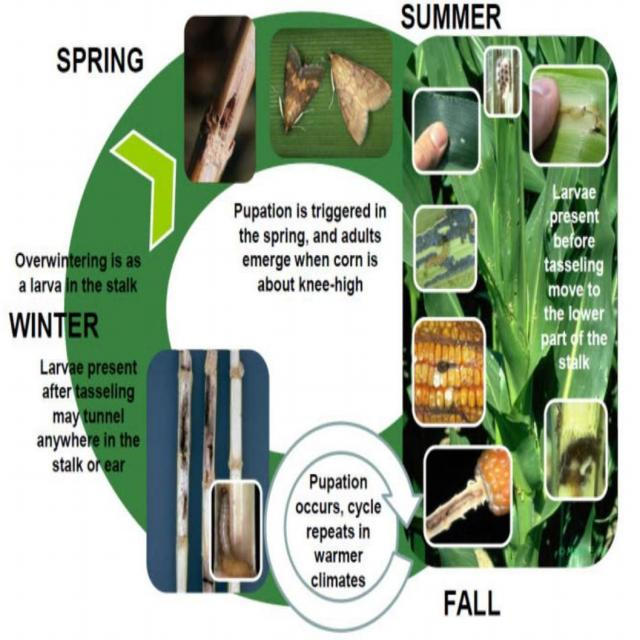cornborer-Larva-: (212, 485, 244, 572), (444, 487, 482, 530)
